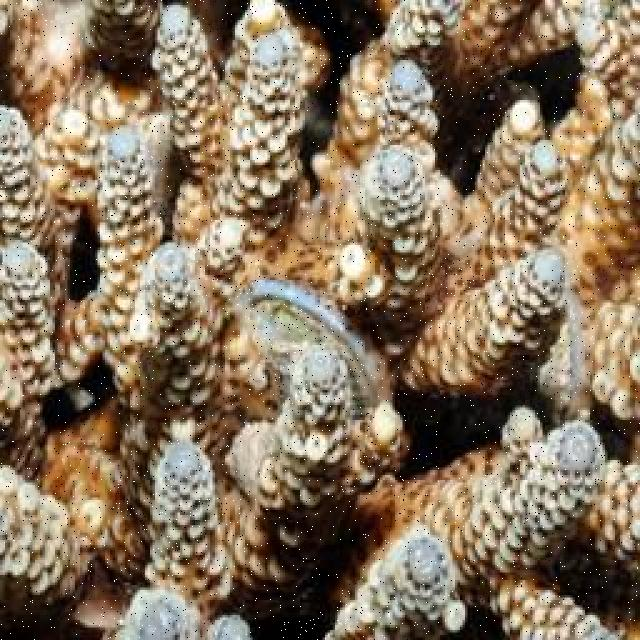reefs: (0, 0, 638, 638)
